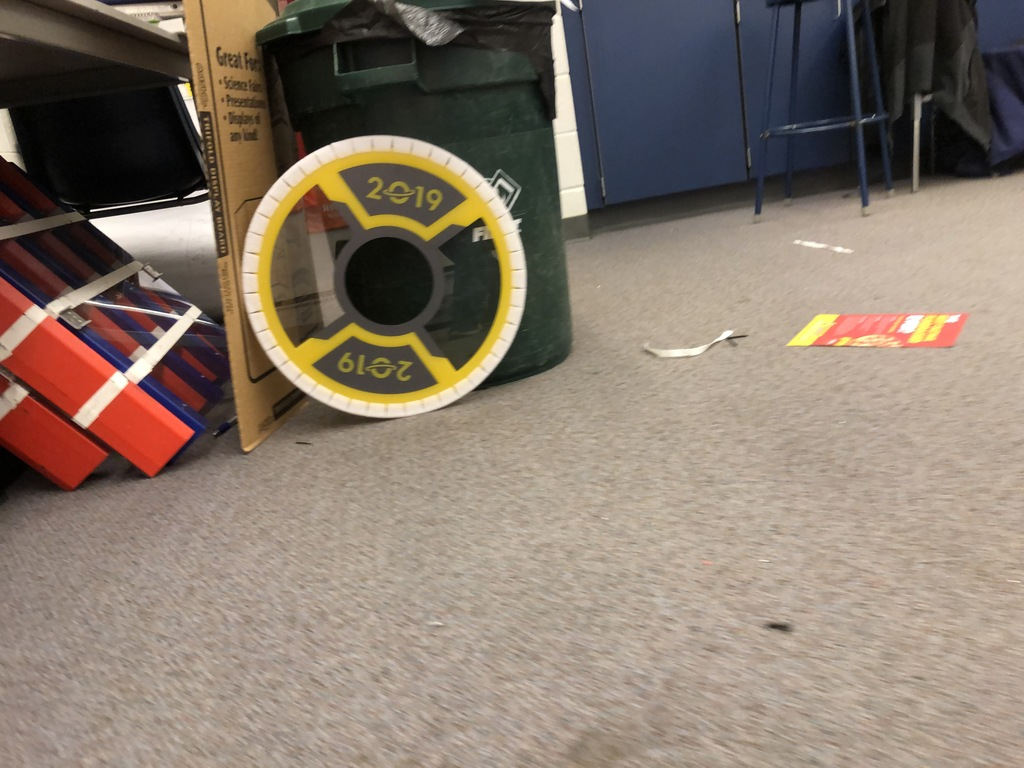hatch_panel: (238, 128, 540, 444)
